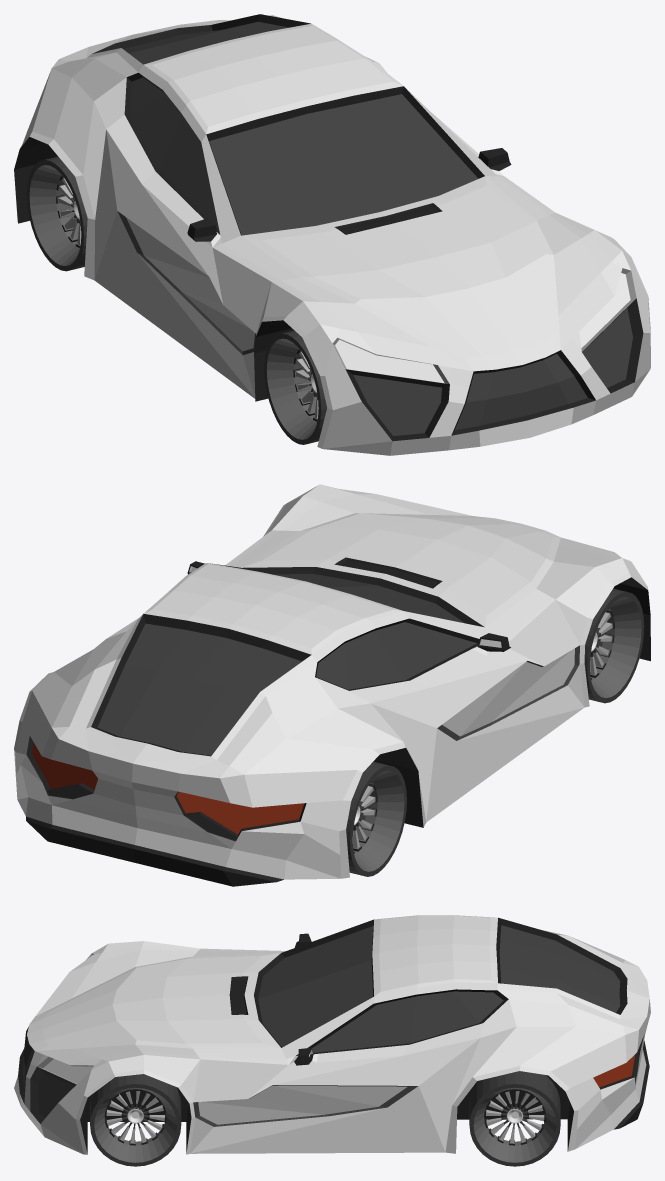
The model's file is felinocb7.fbx.
3 views of the same model, one above another, from view 1: azimuth 30°, elevation 25°; view 2: azimuth 150°, elevation 25°; view 3: azimuth 270°, elevation 25° (orthographic). The views are drawn at different scales.
Visible parts, largest first — view 1: WhiteBody, BackRight, FrontRight; view 2: WhiteBody, BackRight, FrontRight; view 3: WhiteBody, BackLeft, FrontLeft.
Part boxes in pixels (x1,y1,x2,y2): WhiteBody: (14,14,650,455); BackRight: (27,156,87,271); FrontRight: (264,330,326,444); WhiteBody: (14,484,650,886); BackRight: (346,761,406,876); FrontRight: (584,588,644,703); WhiteBody: (14,915,650,1154); BackLeft: (469,1071,560,1166); FrontLeft: (90,1074,181,1166).
Size of the model in its own units: 2.01 by 4.08 by 1.13.
